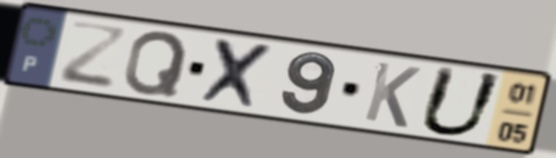9: (277, 50, 340, 118)
K: (360, 59, 424, 131)
Q: (120, 29, 191, 98)
U: (414, 63, 508, 139)
X: (196, 35, 280, 113)
Z: (55, 18, 131, 92)
